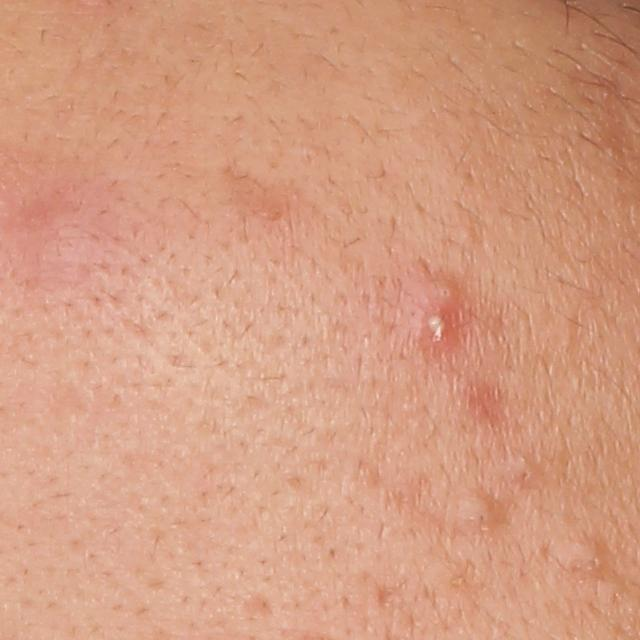atrophic_scar: (241, 591, 275, 622)
comedo: (456, 493, 505, 536), (566, 538, 605, 581), (504, 454, 538, 491)
pustule: (417, 302, 464, 350)
